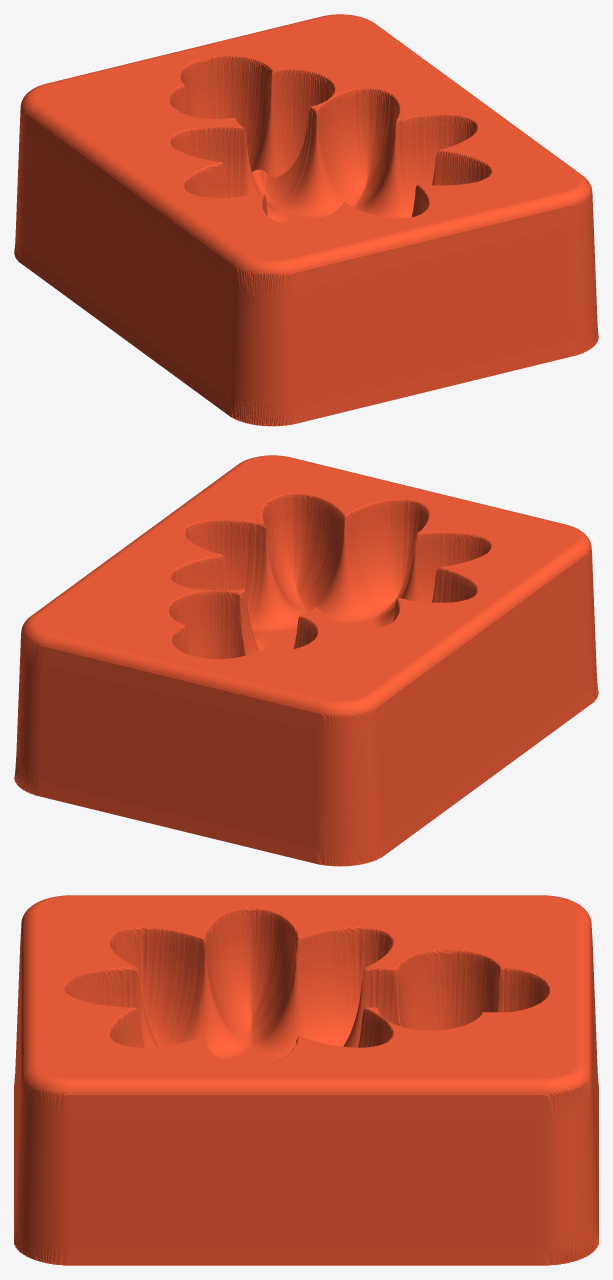
Rendered from mold.glb.
3 renders of one model, top to bottom at view 1: azimuth 30°, elevation 25°; view 2: azimuth 150°, elevation 25°; view 3: azimuth 270°, elevation 25°, orthographic. The views are drawn at different scales.
Parts seen in each view (by area): view 1: geometry_0; view 2: geometry_0; view 3: geometry_0.
Boxes of the visible parts, x1,y1,x2,y2 form: geometry_0: [14, 14, 598, 426]; geometry_0: [14, 455, 598, 866]; geometry_0: [14, 895, 598, 1265].
Size of the model in its own units: 0.075 by 0.031 by 0.0924.
